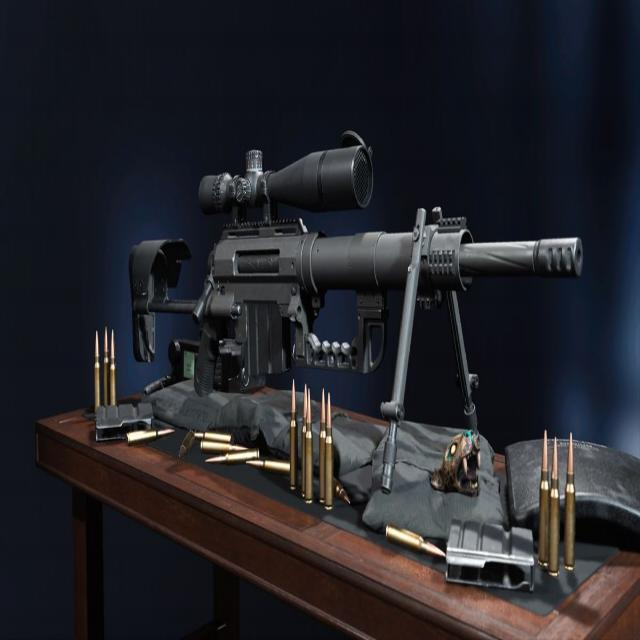rifle: (121, 122, 590, 423)
